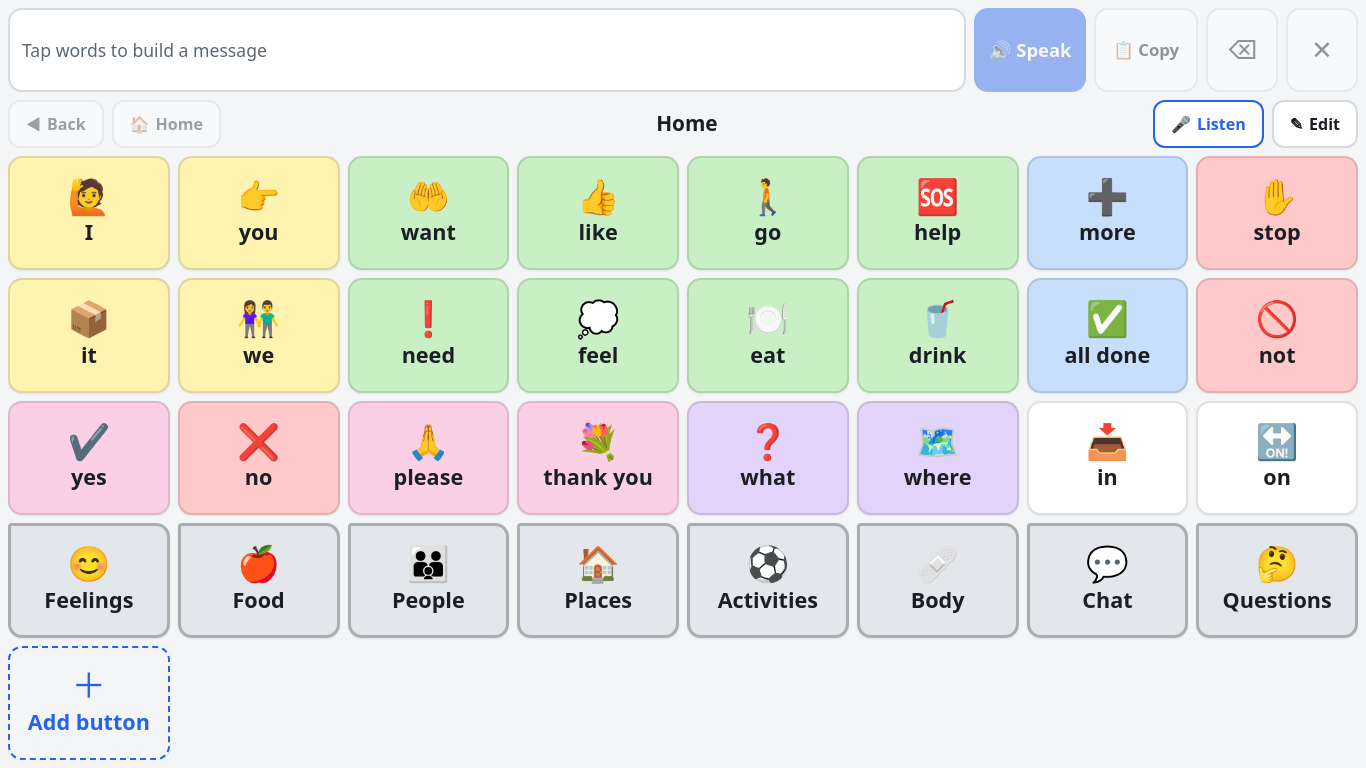
Test: voice matching › explains when nothing matched or nothing was heard, and can try again
Click the button "🎤 Listen".
click(1208, 124)  # box top-left (1153, 100), bottom-right (1264, 148)
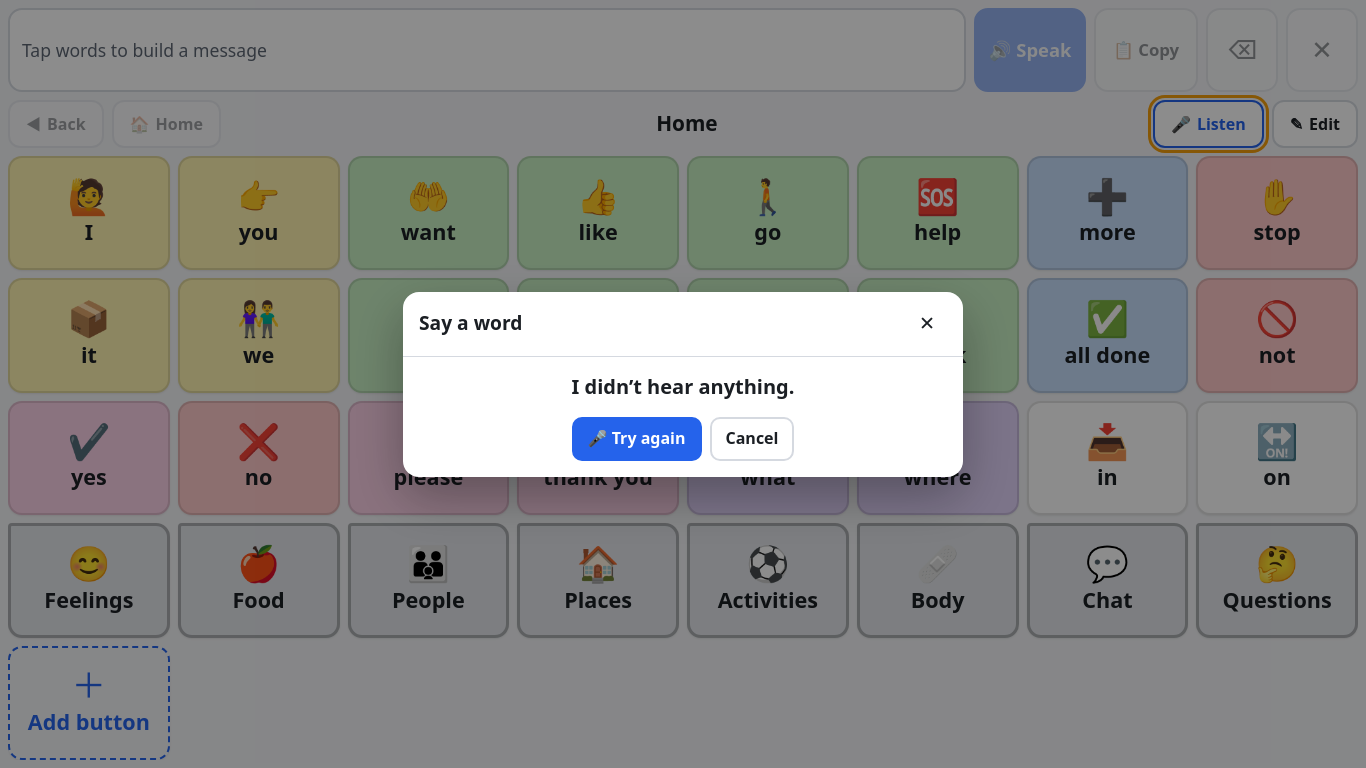
Expected: the text "I didn’t hear anything." is shown, top-left (572, 372), bottom-right (794, 400)
Click the button "🎤 Try again".
click(636, 438)  # box top-left (572, 416), bottom-right (702, 460)
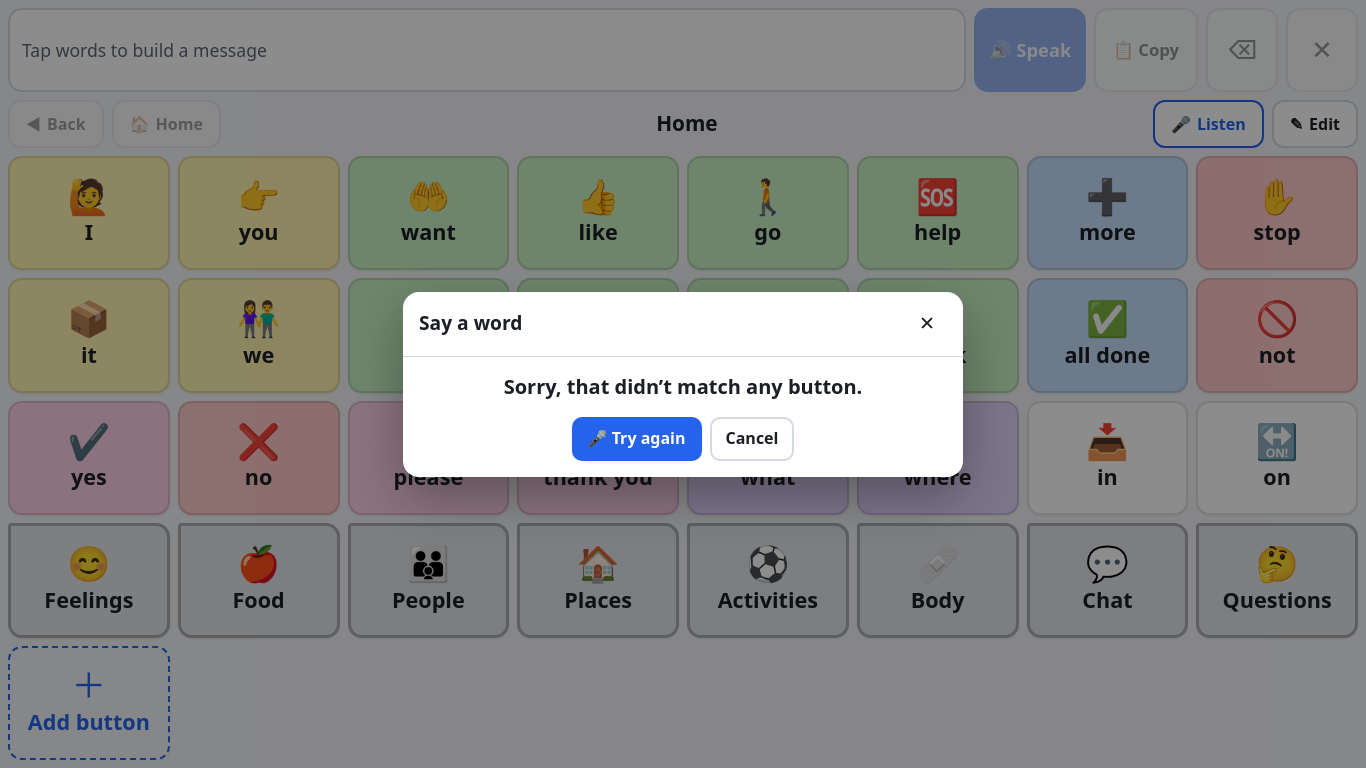
Expected: the text "Sorry, that didn’t match any button." is shown, top-left (504, 372), bottom-right (862, 400)
Click the button "Cancel".
click(752, 438)  # box top-left (710, 416), bottom-right (794, 460)
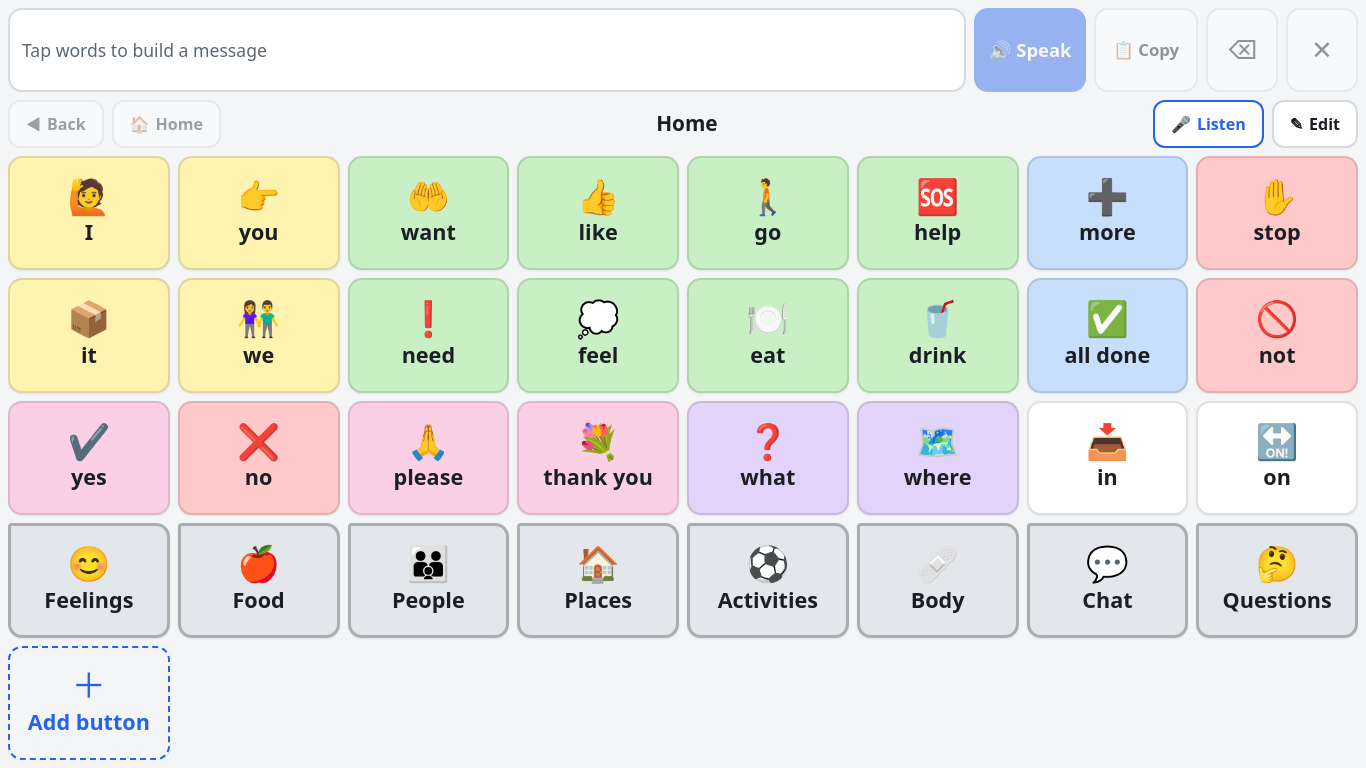
Expected: the text "Tap words to build a message" is shown, top-left (22, 38), bottom-right (267, 62)
Expected: the dialog is gone
